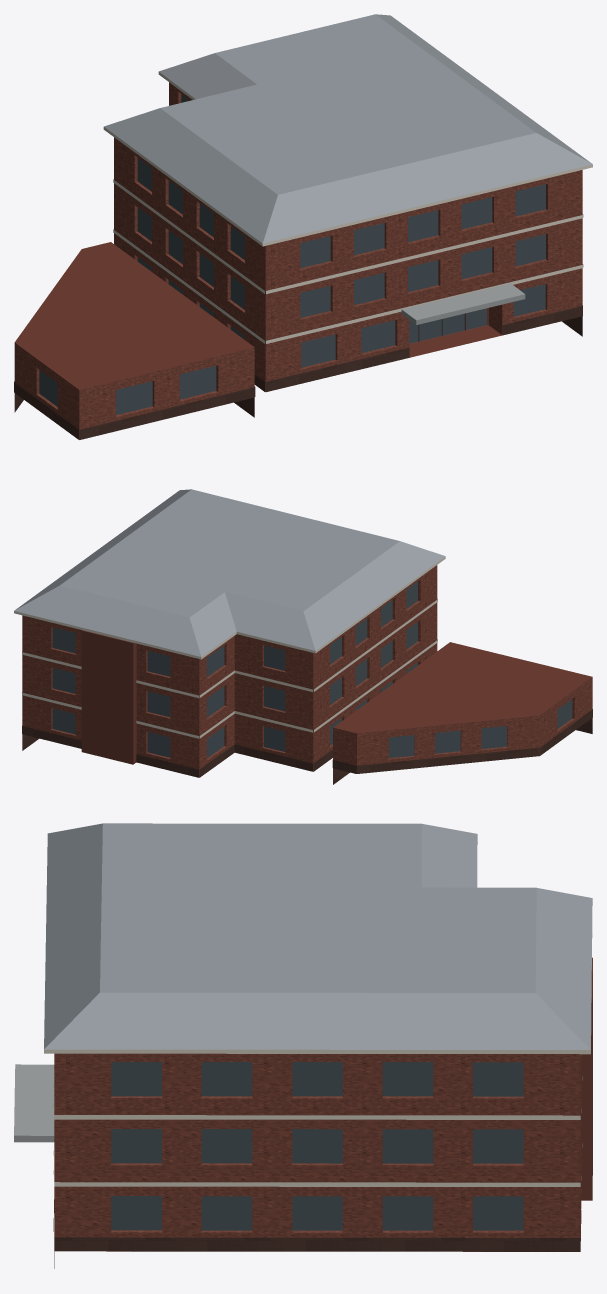
The picture shows the model from 3 angles, top to bottom: view 1: azimuth 30°, elevation 25°; view 2: azimuth 150°, elevation 25°; view 3: azimuth 270°, elevation 25°; orthographic projection. The views are drawn at different scales.
Visible parts, largest first — view 1: studentCenter2__roofAccent, studentCenter2__wall, studentCenter2__roof, studentCenter2__glass, studentCenter2__base, studentCenter2__trim, studentCenter2__canopy; view 2: studentCenter2__roofAccent, studentCenter2__wall, studentCenter2__roof, studentCenter2__glass, studentCenter2__wall2, studentCenter2__base, studentCenter2__trim; view 3: studentCenter2__roofAccent, studentCenter2__wall, studentCenter2__glass, studentCenter2__base, studentCenter2__trim, studentCenter2__canopy, studentCenter2__wall2.
Boxes of the visible parts, left/top/right/bottom form: studentCenter2__roofAccent: left=104, top=14, right=592, bottom=243; studentCenter2__wall: left=14, top=82, right=582, bottom=439; studentCenter2__roof: left=14, top=242, right=502, bottom=392; studentCenter2__glass: left=39, top=94, right=545, bottom=414; studentCenter2__base: left=14, top=305, right=582, bottom=439; studentCenter2__trim: left=103, top=72, right=592, bottom=343; studentCenter2__canopy: left=401, top=283, right=525, bottom=324; studentCenter2__roofAccent: left=14, top=489, right=445, bottom=656; studentCenter2__wall: left=22, top=565, right=592, bottom=777; studentCenter2__roof: left=82, top=630, right=592, bottom=733; studentCenter2__glass: left=52, top=581, right=572, bottom=758; studentCenter2__wall2: left=81, top=630, right=136, bottom=764; studentCenter2__base: left=22, top=709, right=592, bottom=784; studentCenter2__trim: left=14, top=556, right=445, bottom=738; studentCenter2__roofAccent: left=44, top=823, right=592, bottom=1049; studentCenter2__wall: left=54, top=1053, right=581, bottom=1240; studentCenter2__glass: left=111, top=1062, right=523, bottom=1230; studentCenter2__base: left=53, top=1199, right=581, bottom=1268; studentCenter2__trim: left=44, top=841, right=592, bottom=1186; studentCenter2__canopy: left=14, top=1064, right=54, bottom=1142; studentCenter2__wall2: left=581, top=974, right=592, bottom=1200.
Size of the model in its own units: 38.7 by 14.34 by 28.14.
Materials: 10 (2 with a texture image).
